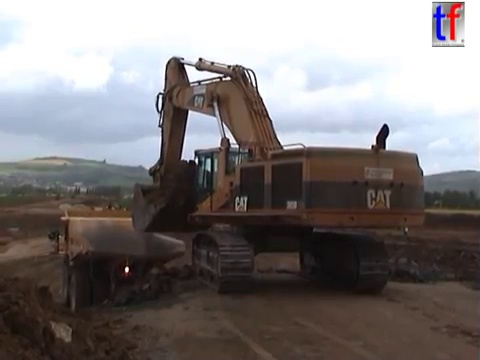excavator: (130, 53, 430, 298), (101, 199, 127, 215)
truck: (46, 204, 189, 316), (196, 192, 282, 255), (51, 191, 63, 203), (69, 192, 78, 200)
worker: (400, 215, 413, 239)
